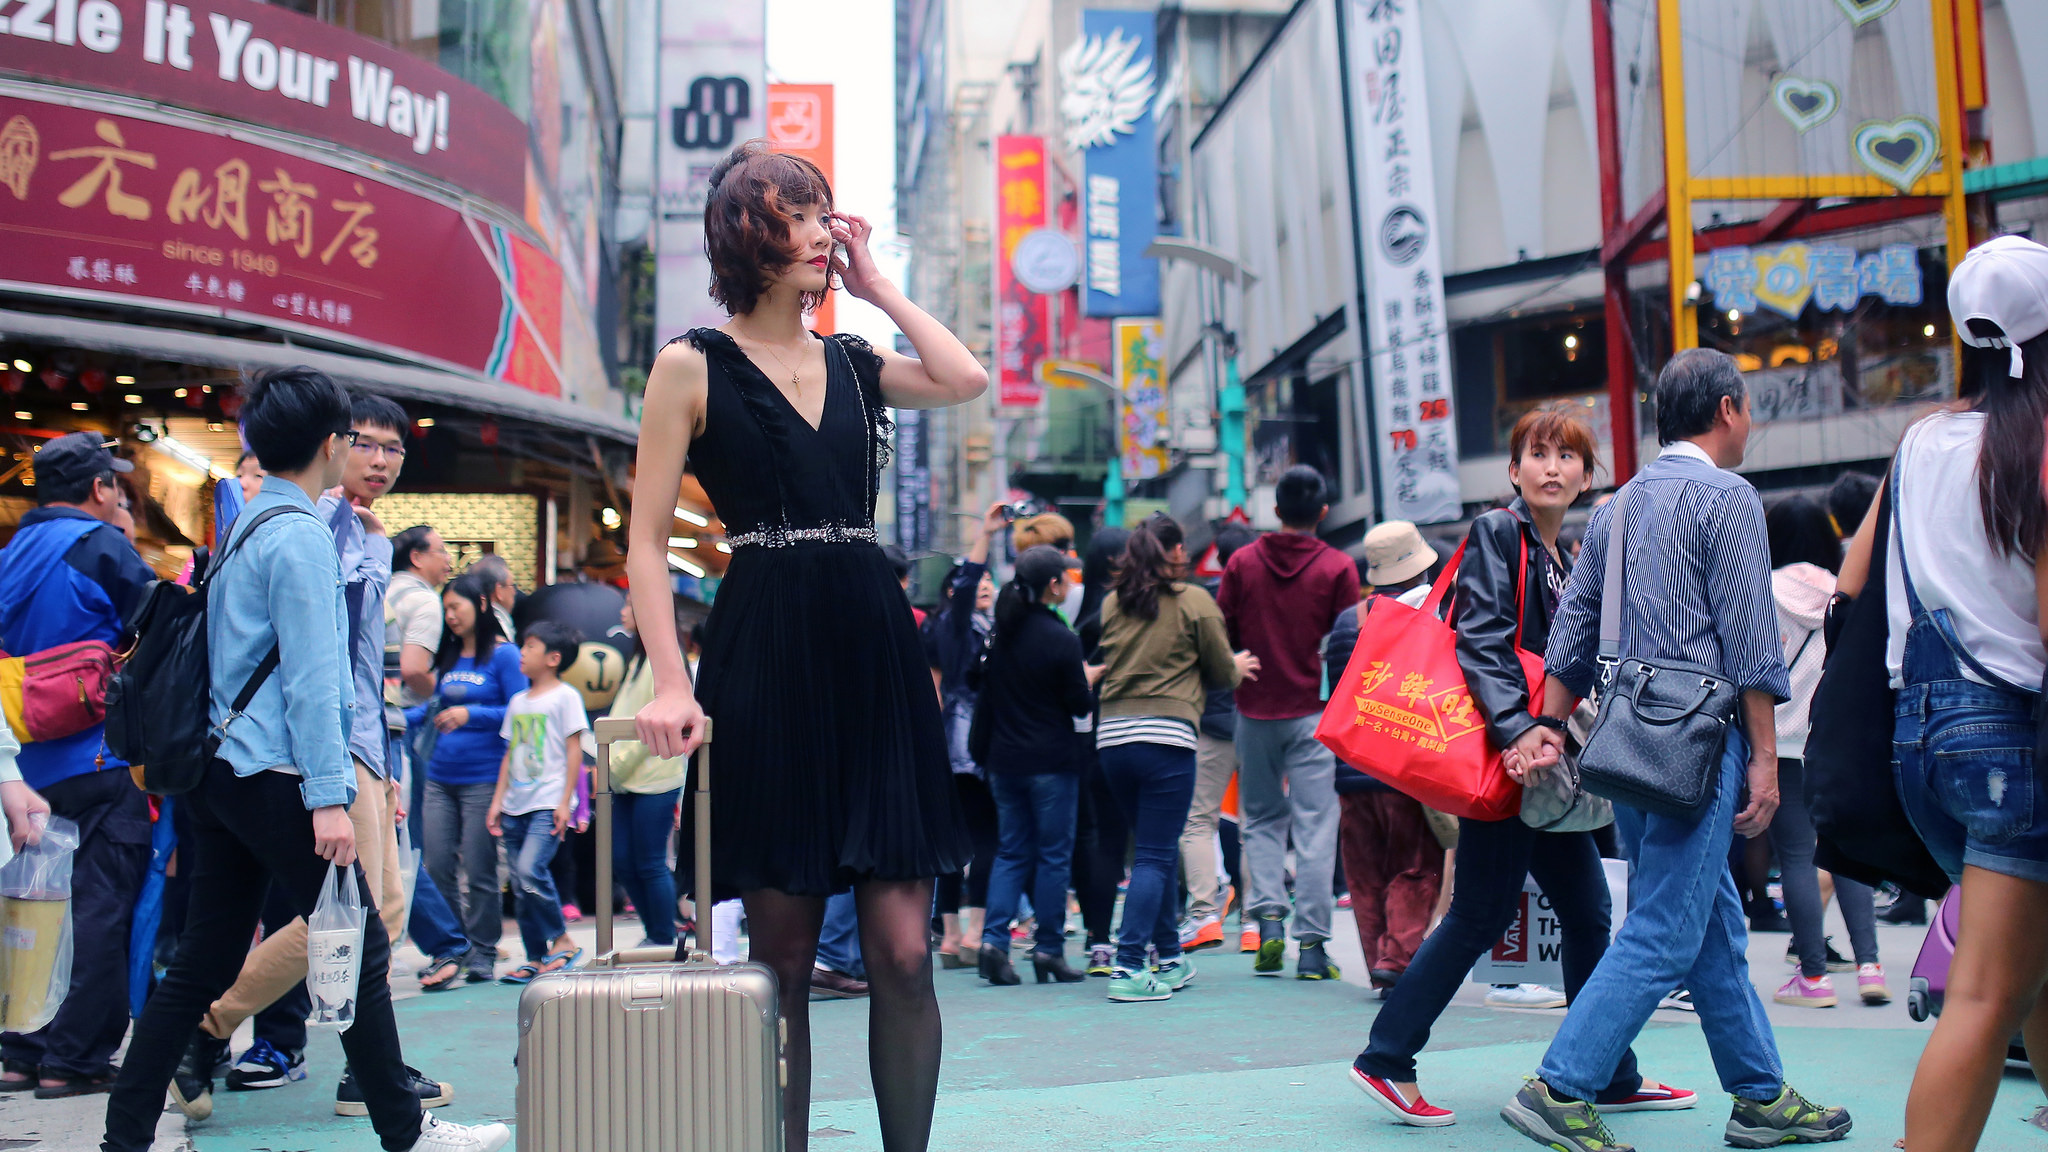without_mask: (762, 178, 836, 287), (1524, 432, 1575, 496), (358, 429, 388, 489), (438, 589, 475, 636), (513, 626, 547, 677), (424, 529, 451, 579)
